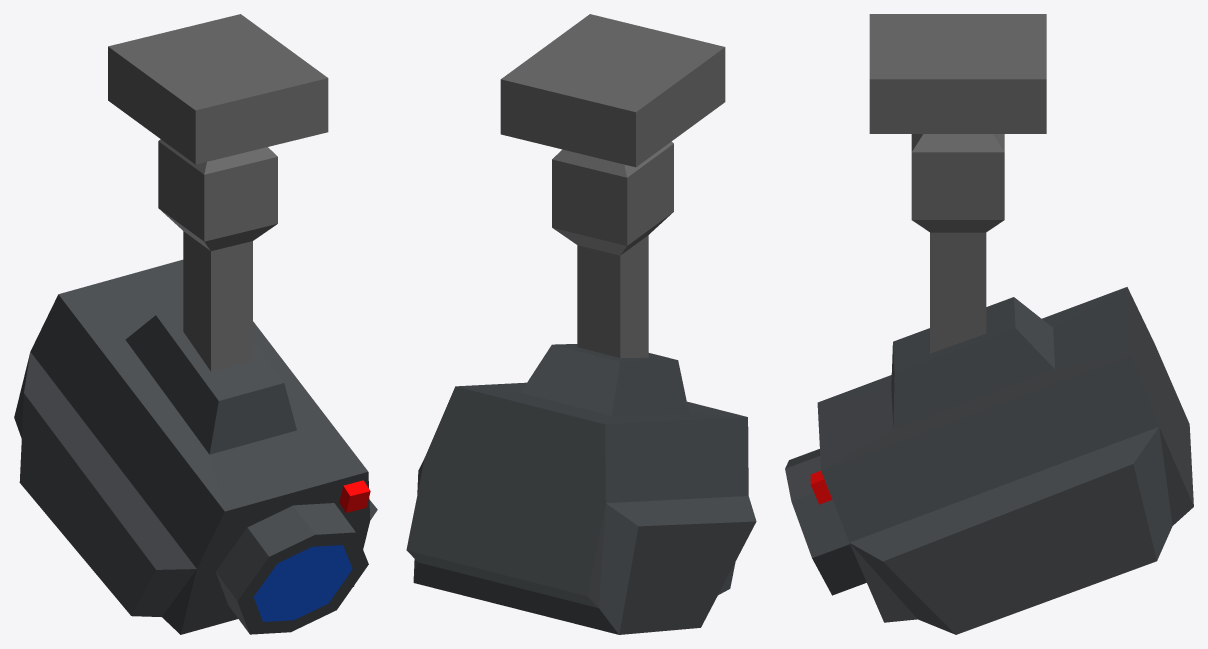
The model's file is Camera_01.fbx.
3 views of the same model, side by side, from view 1: azimuth 30°, elevation 25°; view 2: azimuth 150°, elevation 25°; view 3: azimuth 270°, elevation 25° (orthographic).
Visible parts, largest first — view 1: SM_Prop_Camera_Head_01, SM_Prop_Camera_01; view 2: SM_Prop_Camera_Head_01, SM_Prop_Camera_01; view 3: SM_Prop_Camera_Head_01, SM_Prop_Camera_01.
Boxes of the visible parts, x1=… form: SM_Prop_Camera_Head_01: x1=14, y1=259, x2=377, y2=634; SM_Prop_Camera_01: x1=108, y1=14, x2=328, y2=371; SM_Prop_Camera_Head_01: x1=406, y1=344, x2=756, y2=634; SM_Prop_Camera_01: x1=500, y1=14, x2=725, y2=357; SM_Prop_Camera_Head_01: x1=785, y1=287, x2=1193, y2=634; SM_Prop_Camera_01: x1=869, y1=14, x2=1046, y2=353.
Bounding box in the file's own units: 0.2503 × 0.5491 × 0.3781.
